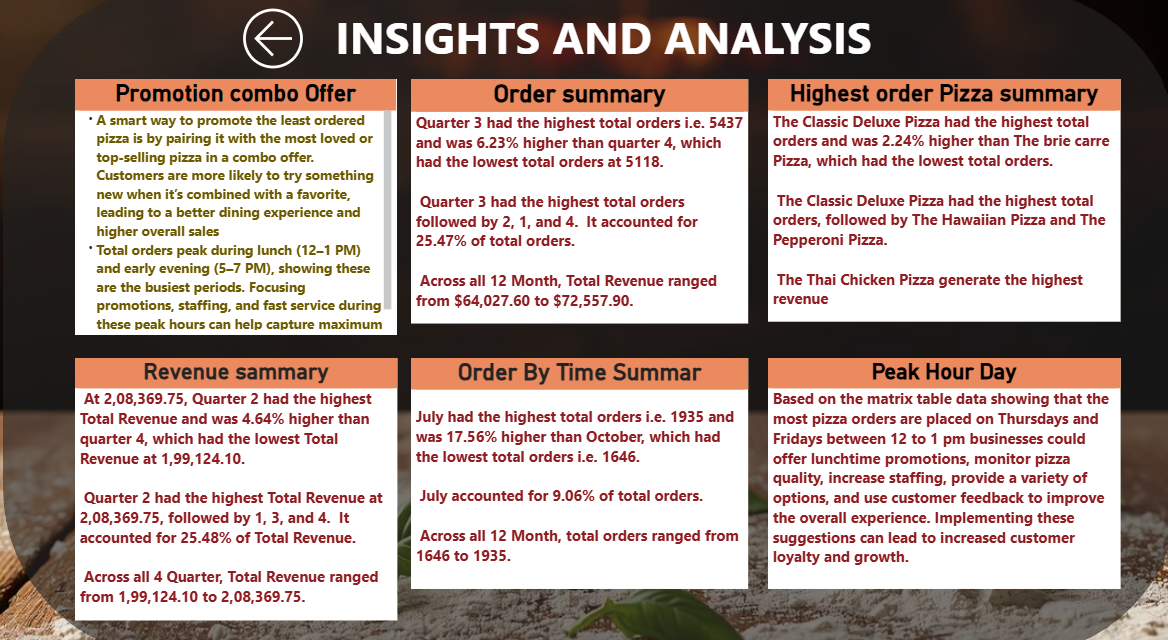

This screenshot's page, from the dashboard's own definition file:
{"tool":"powerbi","page":{"name":"Insights","canvas":[1280,720],"ordinal":4},"visuals":[{"type":"shape","box":[9.7,0,1271.1,720.6],"z":0},{"type":"textbox","title":"Promotion combo Offer","box":[87.4,97.2,346.5,275.3],"z":1000},{"type":"textbox","title":"Peak Hour Day","box":[835.5,398.3,380.5,249.4],"z":2000},{"type":"textbox","title":"Revenue sammary","box":[86.9,398.7,347.7,283.5],"z":3000},{"type":"textbox","title":"Order summary","box":[450.1,97.2,364.3,263.9],"z":4000},{"type":"textbox","title":"Highest order Pizza summary","box":[835.5,97.2,380.5,262.3],"z":5000},{"type":"textbox","title":"Order By Time Summar","box":[450.1,398.3,364.3,249.4],"z":6000},{"type":"textbox","box":[100.4,13,1115.6,84.2],"z":7000},{"type":"actionButton","box":[260.7,13,93.9,81],"z":8000}]}

Visuals, with their boxes in screenshot pixels (x1, y1, x2, y2), scaled from the page's 1280x720 canvas onto the 1168x640 screenshot:
shape: x1=9 y1=0 x2=1167 y2=639
"Promotion combo Offer" textbox: x1=80 y1=86 x2=396 y2=331
"Peak Hour Day" textbox: x1=762 y1=354 x2=1110 y2=576
"Revenue sammary" textbox: x1=79 y1=354 x2=397 y2=606
"Order summary" textbox: x1=411 y1=86 x2=743 y2=321
"Highest order Pizza summary" textbox: x1=762 y1=86 x2=1110 y2=320
"Order By Time Summar" textbox: x1=411 y1=354 x2=743 y2=576
textbox: x1=92 y1=12 x2=1110 y2=86
actionButton: x1=238 y1=12 x2=324 y2=84
